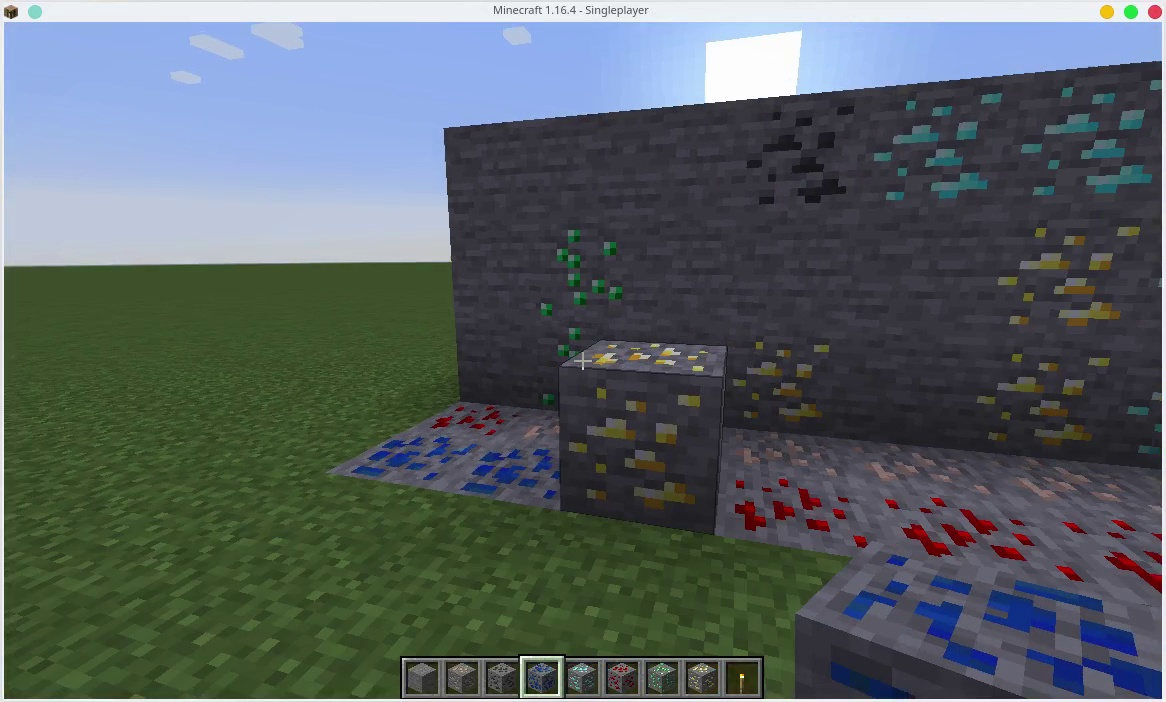gold: (572, 346, 706, 522), (996, 209, 1140, 337), (970, 343, 1118, 457), (730, 341, 830, 439), (687, 663, 715, 698)
